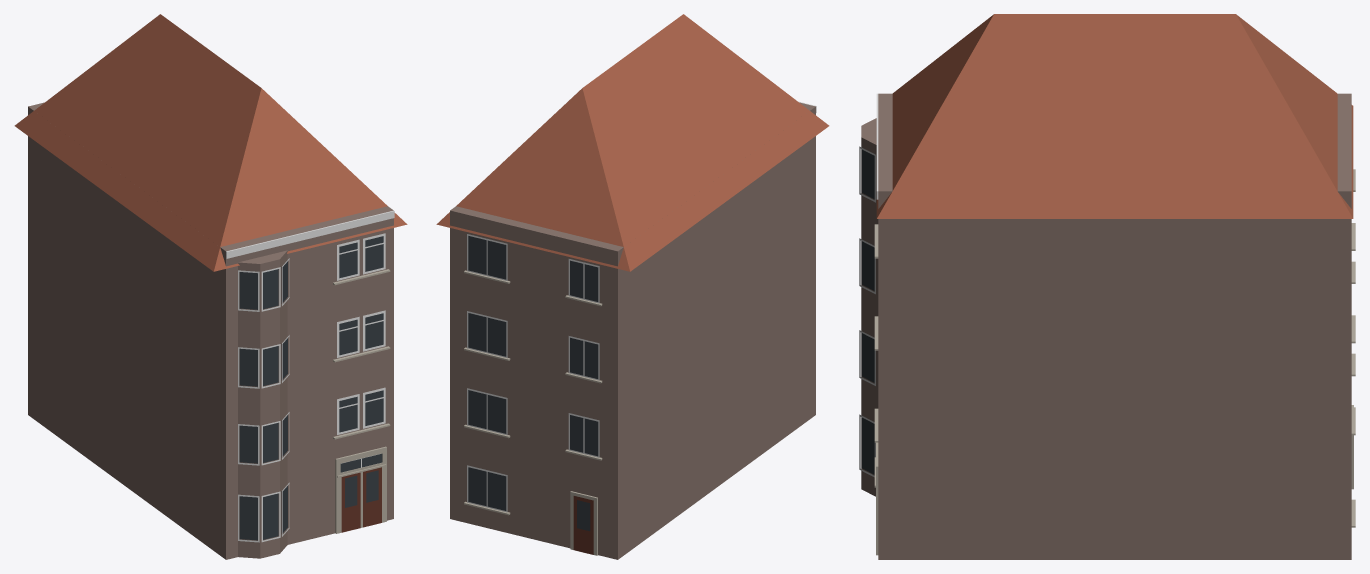
Rendered from we-pk-bay__brown__4__hip__short__solid__f0d1.glb.
3 renders of one model, left to right at view 1: azimuth 30°, elevation 25°; view 2: azimuth 150°, elevation 25°; view 3: azimuth 270°, elevation 25°, orthographic. The views are drawn at different scales.
Visible parts, largest first — view 1: we-pk-bay__brown__4__hip__short__solid__f0d1; view 2: we-pk-bay__brown__4__hip__short__solid__f0d1; view 3: we-pk-bay__brown__4__hip__short__solid__f0d1.
Part boxes in pixels (<box>): we-pk-bay__brown__4__hip__short__solid__f0d1: <box>14,14,407,559</box>; we-pk-bay__brown__4__hip__short__solid__f0d1: <box>436,14,829,559</box>; we-pk-bay__brown__4__hip__short__solid__f0d1: <box>859,14,1355,559</box>.
Bounding box in the file's own units: 8.18 × 16.78 × 15.21.
